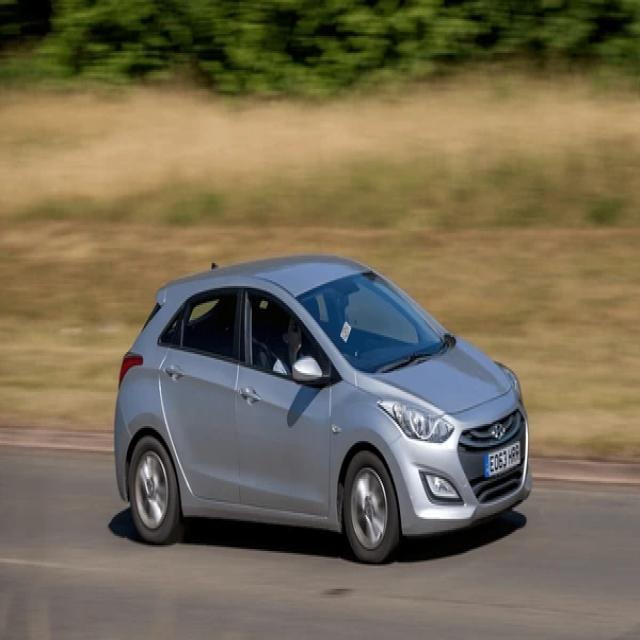hyundai: (481, 421, 508, 453)
